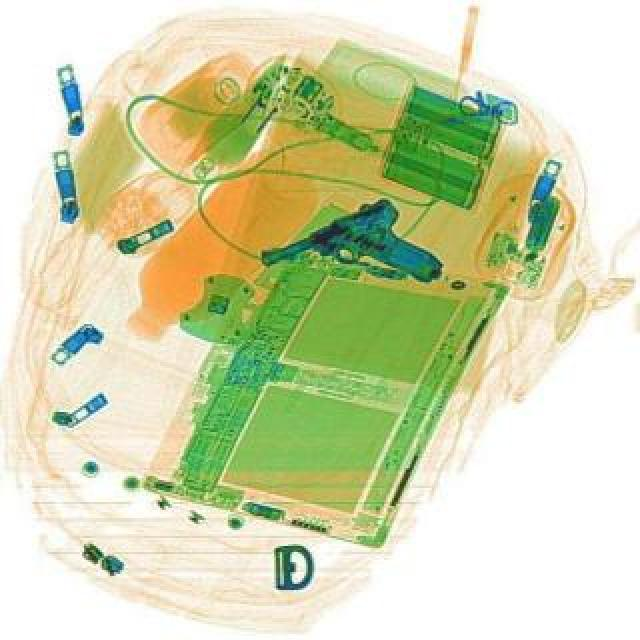gun: (250, 188, 446, 332)
